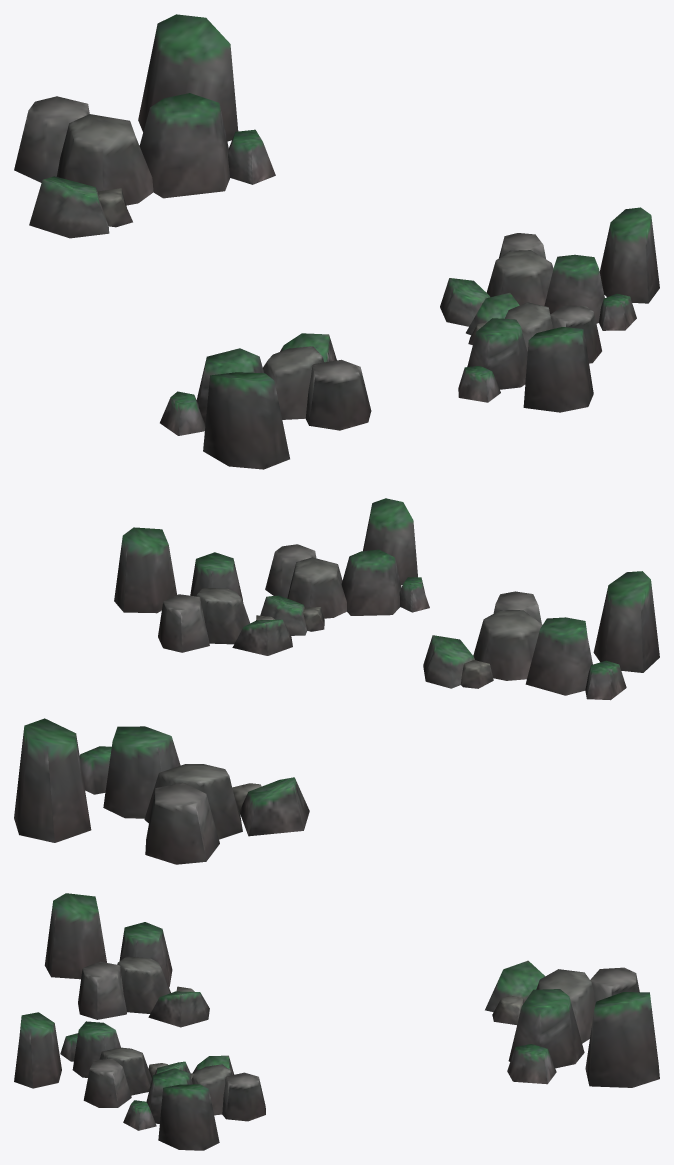
File: Area_05_8.fbx
3 renders of one model, top to bottom at view 1: azimuth 30°, elevation 25°; view 2: azimuth 150°, elevation 25°; view 3: azimuth 270°, elevation 25°, orthographic. The views are drawn at different scales.
Visible parts, largest first — view 1: Area_05_8; view 2: Area_05_8; view 3: Area_05_8.
Boxes of the visible parts, x1,y1,x2,y2 form: Area_05_8: [14, 14, 659, 469]; Area_05_8: [14, 498, 659, 864]; Area_05_8: [14, 893, 659, 1150].
Size of the model in its own units: 2911 by 572 by 3990.
